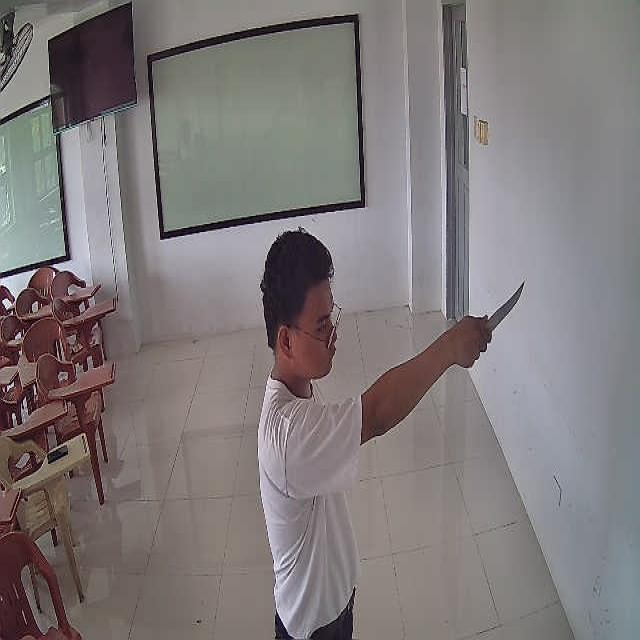knife: (488, 280, 525, 331)
